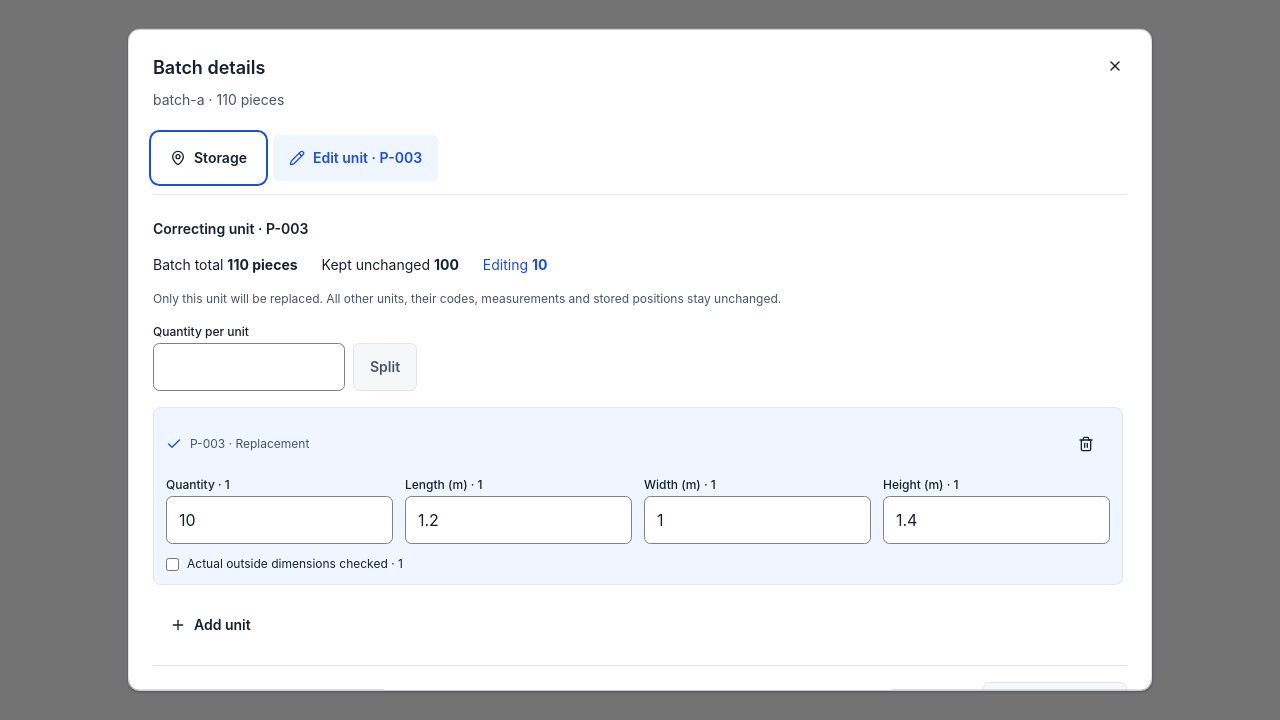
Test case: names the scoped edit tab and preserves that scope when another unit is previewed
Replace the text in the number field labelled "Length (m) · 1" with "0.8". click: (518, 520)
box: 405,496 -> 632,544
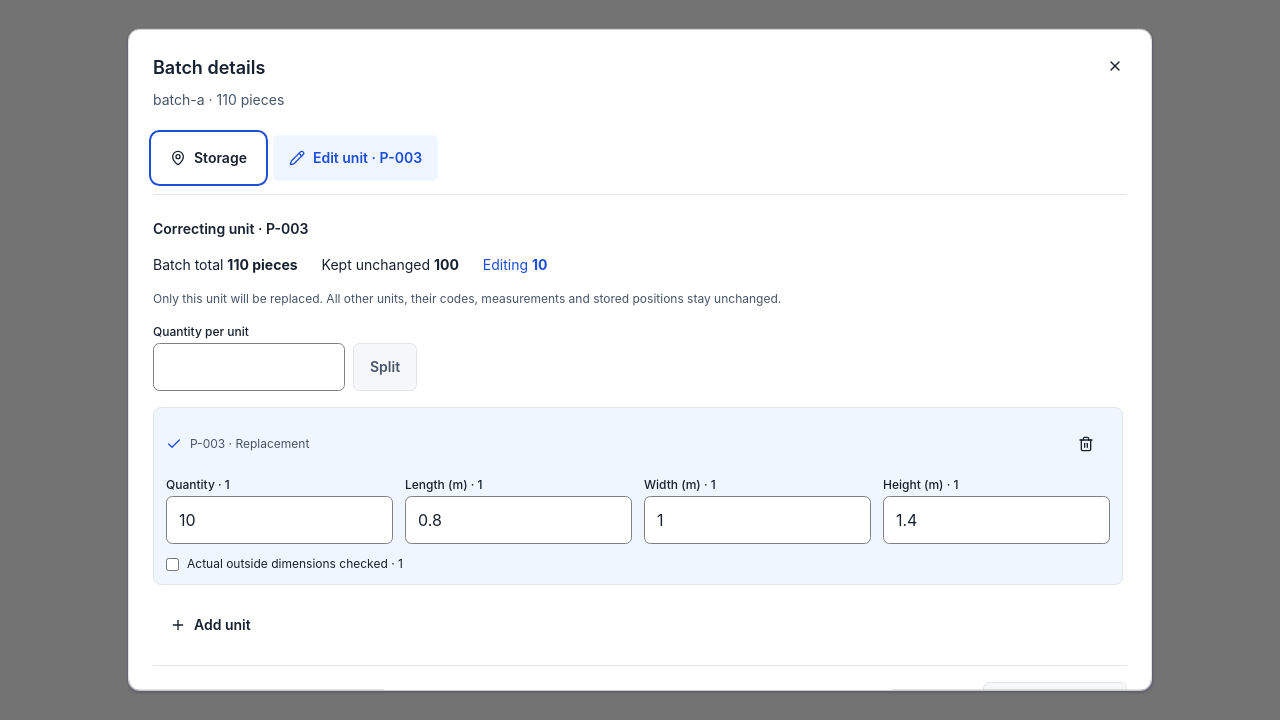
Click the button "Storage". click: (208, 158)
box: 153,134 -> 264,182
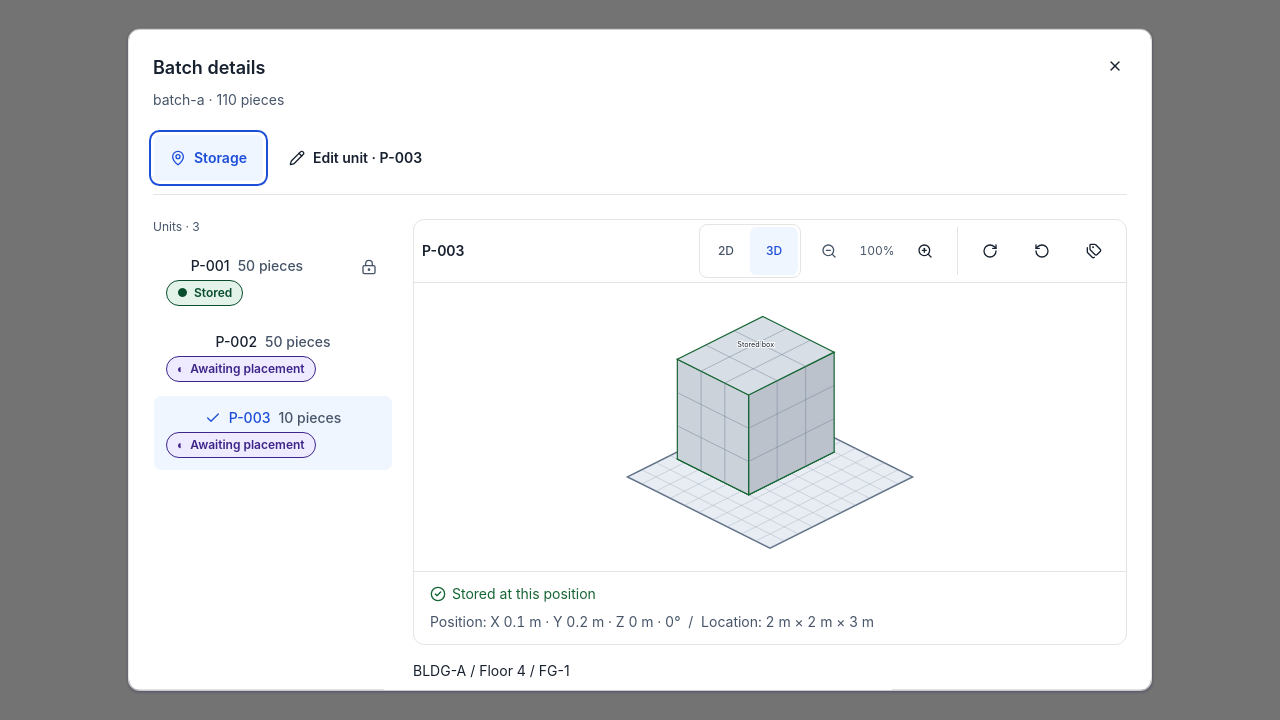
Click the button "P-002 50 pieces ◐ Awaiting placement". click: (273, 357)
box: 153,319 -> 393,395
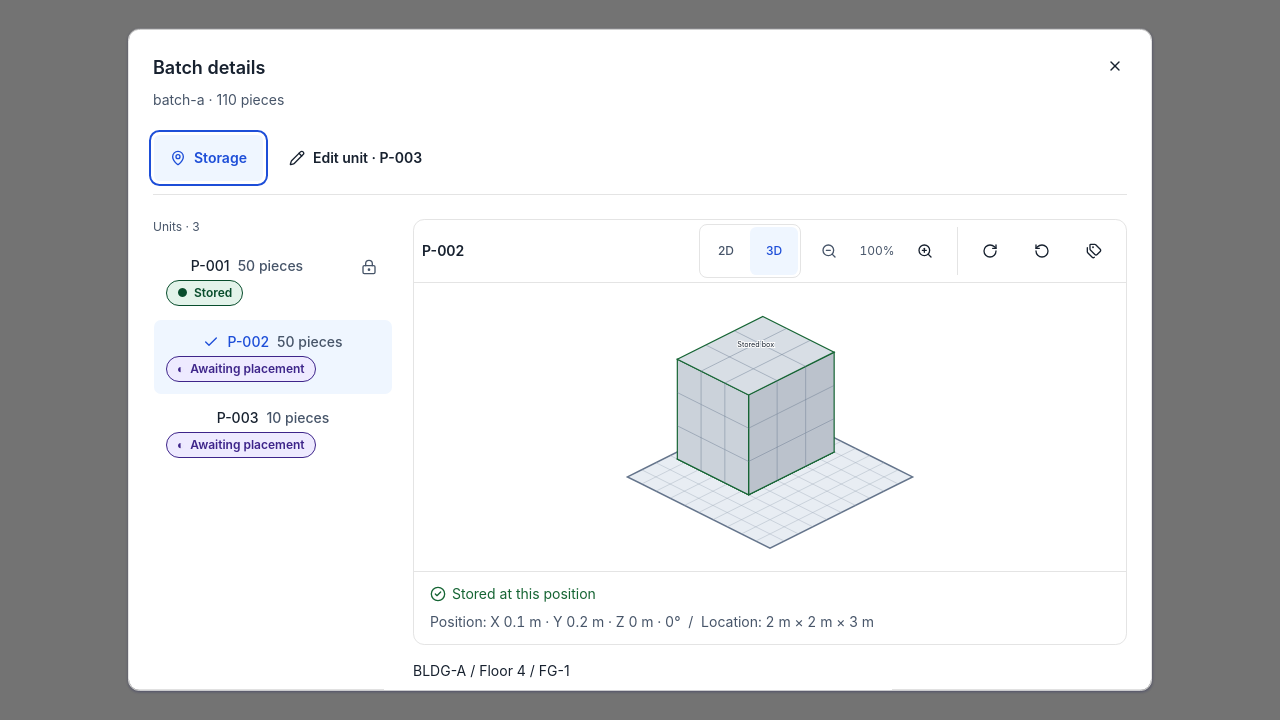
Click the button "Edit unit · P-003". click: (355, 158)
box: 272,134 -> 439,182
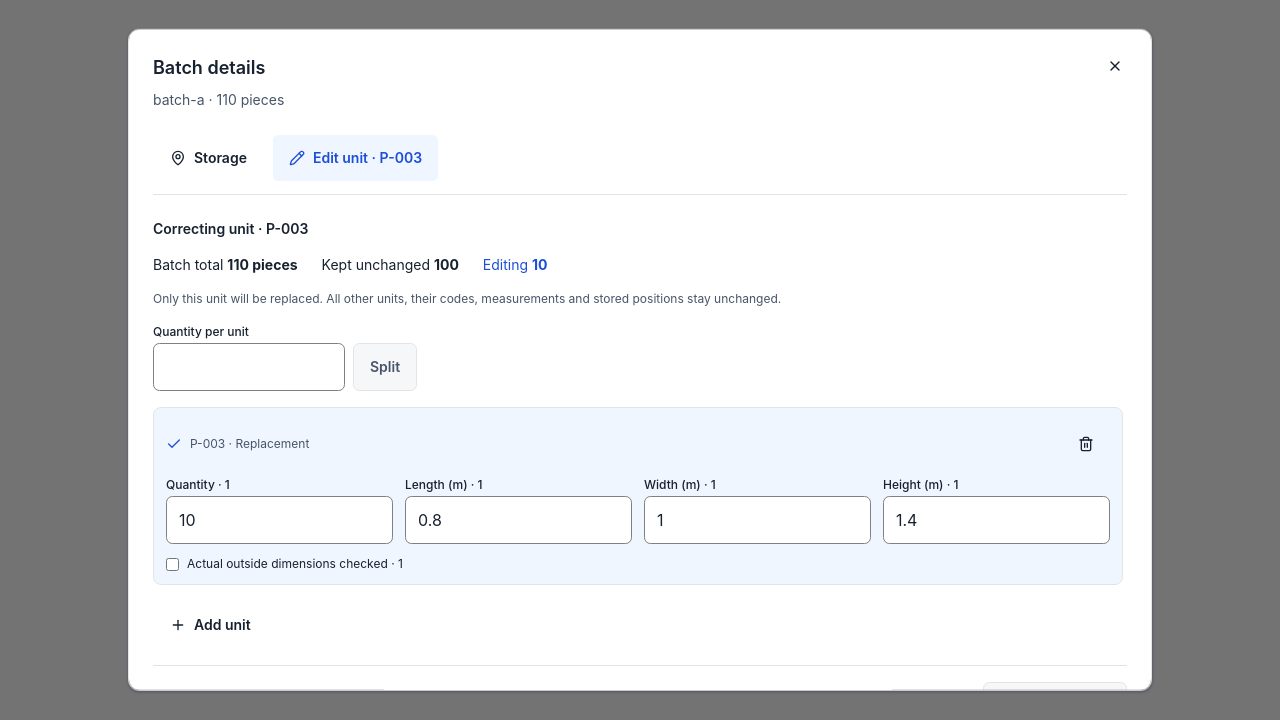
Check: the heading "Correcting unit · P-003" is shown, box 153,220 -> 308,237
Check: the number field labelled "Quantity · 1" holds "10", box 166,496 -> 393,544
